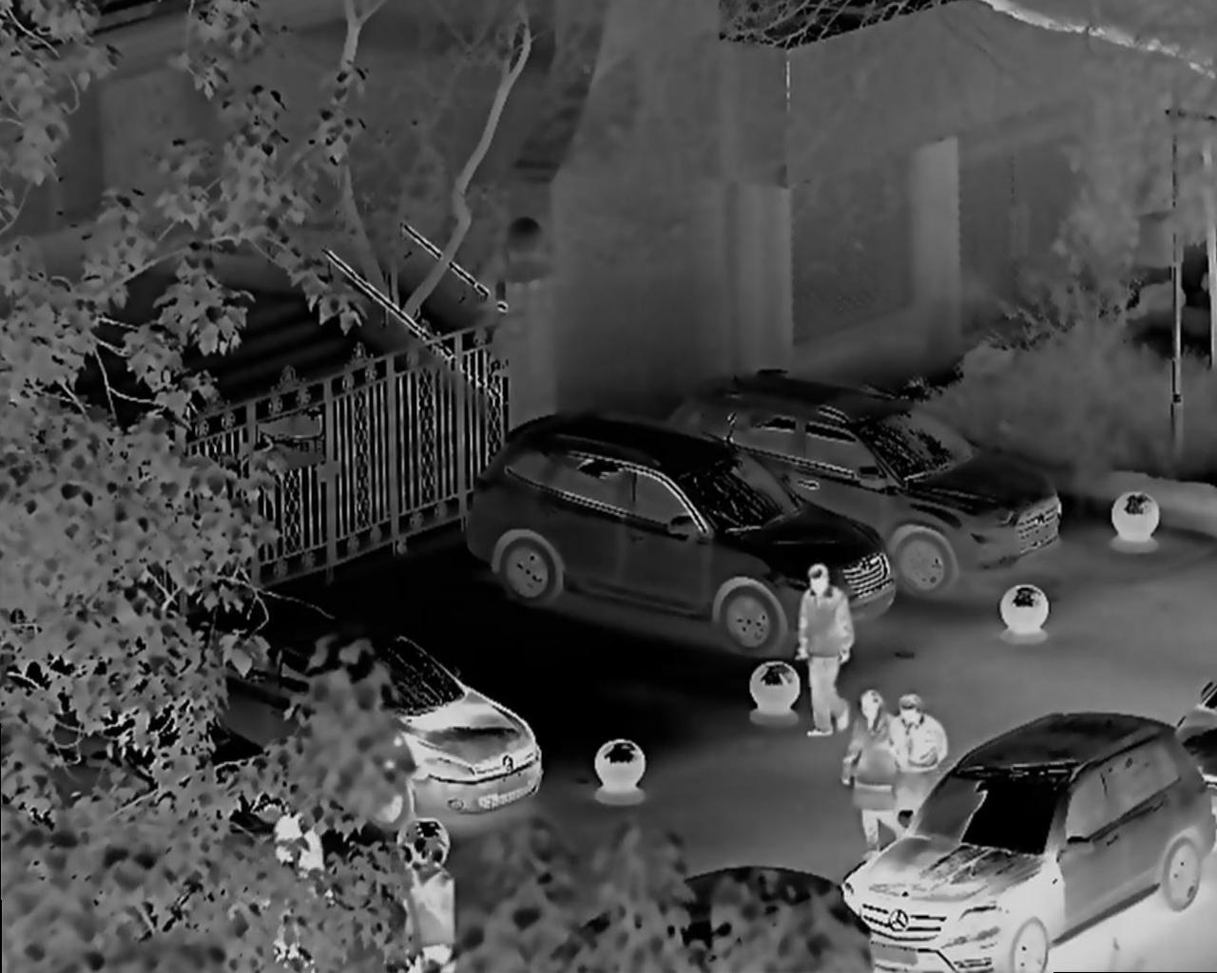person: (802, 568, 878, 743), (854, 685, 906, 838), (893, 696, 958, 811)
